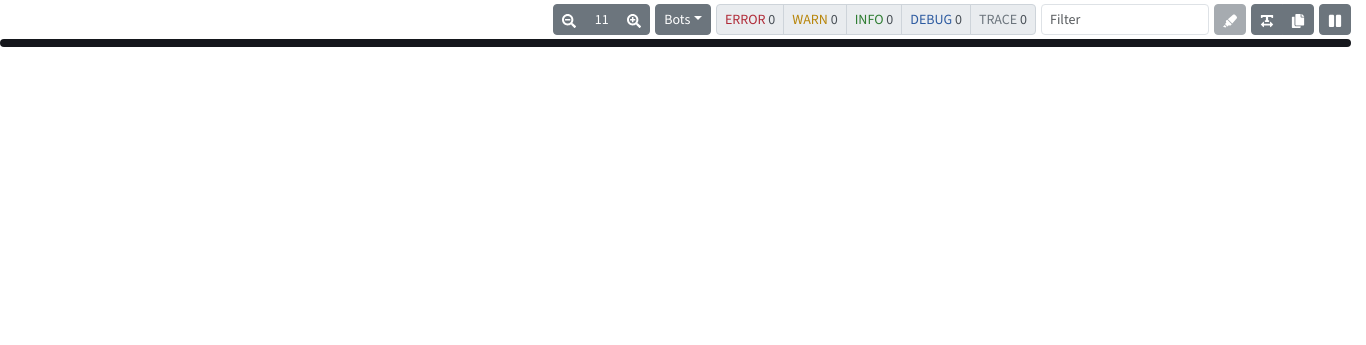
Test: Logs (per-bot filtering) › lists all arena bots in the filter even before any logs arrive
Click the button "Bots" at (683, 20), box 655,4 -> 711,35
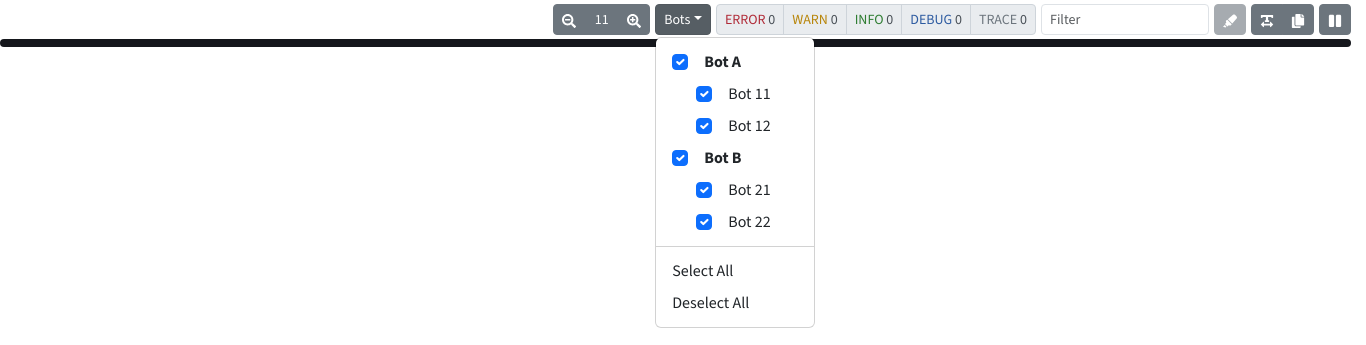
Check: the text "Bot A" is shown, box 704,51 -> 741,72
Check: the text "Bot B" is shown, box 704,147 -> 742,168
